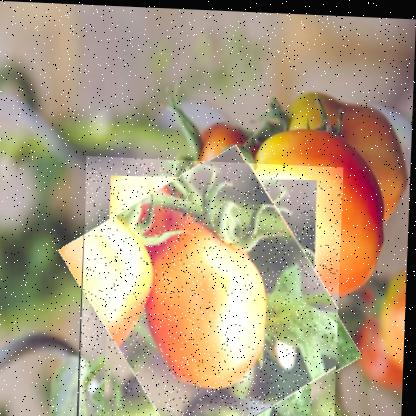capsicum: (79, 154, 346, 415)
